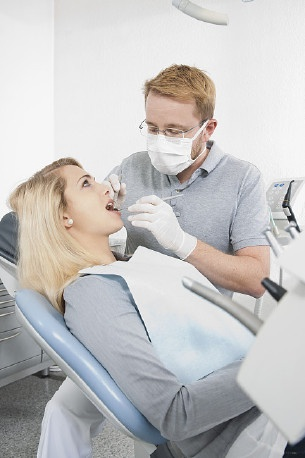Mask: (140, 114, 205, 179)
